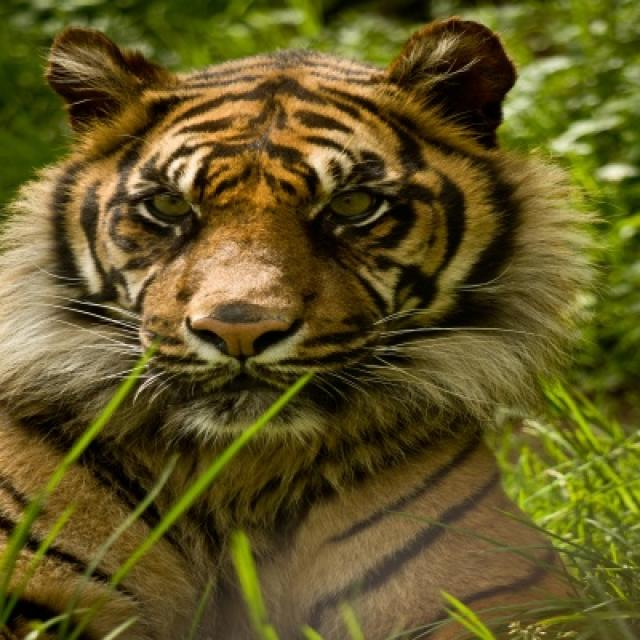Tiger: (0, 19, 590, 638)
